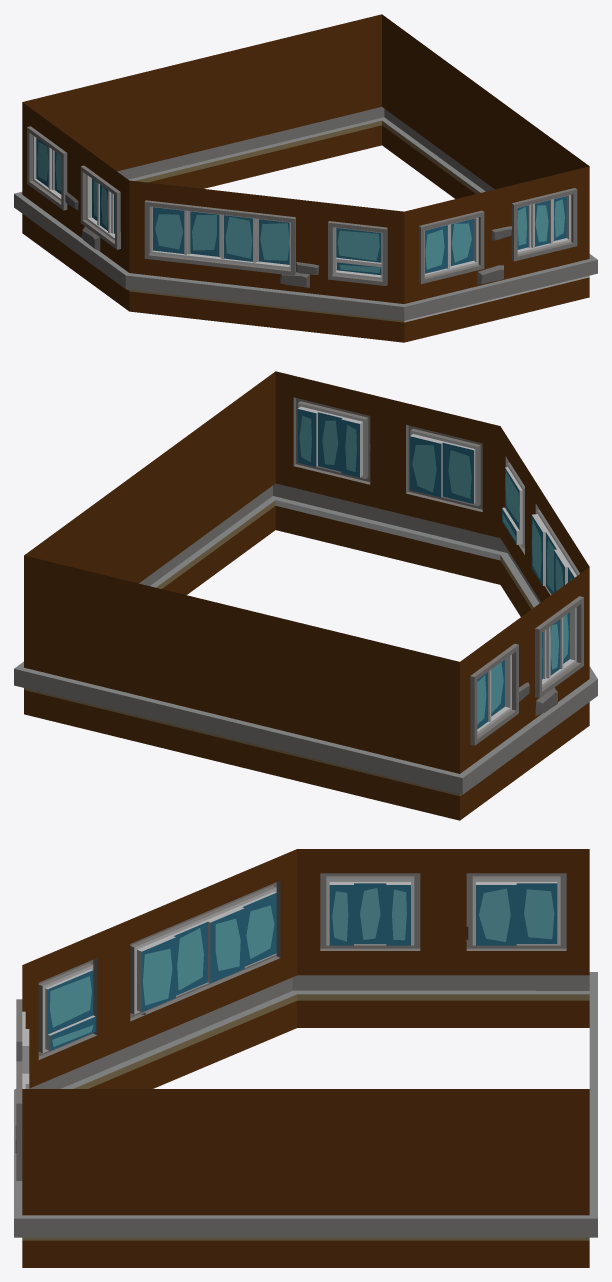
File: Building_A_02.FBX
3 renders of one model, top to bottom at view 1: azimuth 30°, elevation 25°; view 2: azimuth 150°, elevation 25°; view 3: azimuth 270°, elevation 25°, orthographic. The views are drawn at different scales.
Visible parts, largest first — view 1: Building_A_02; view 2: Building_A_02; view 3: Building_A_02.
Part boxes in pixels (x1=…): Building_A_02: x1=14, y1=14, x2=597, y2=342; Building_A_02: x1=14, y1=371, x2=597, y2=820; Building_A_02: x1=14, y1=849, x2=597, y2=1267.
Size of the model in its own units: 5.02 by 1.7 by 5.02.
